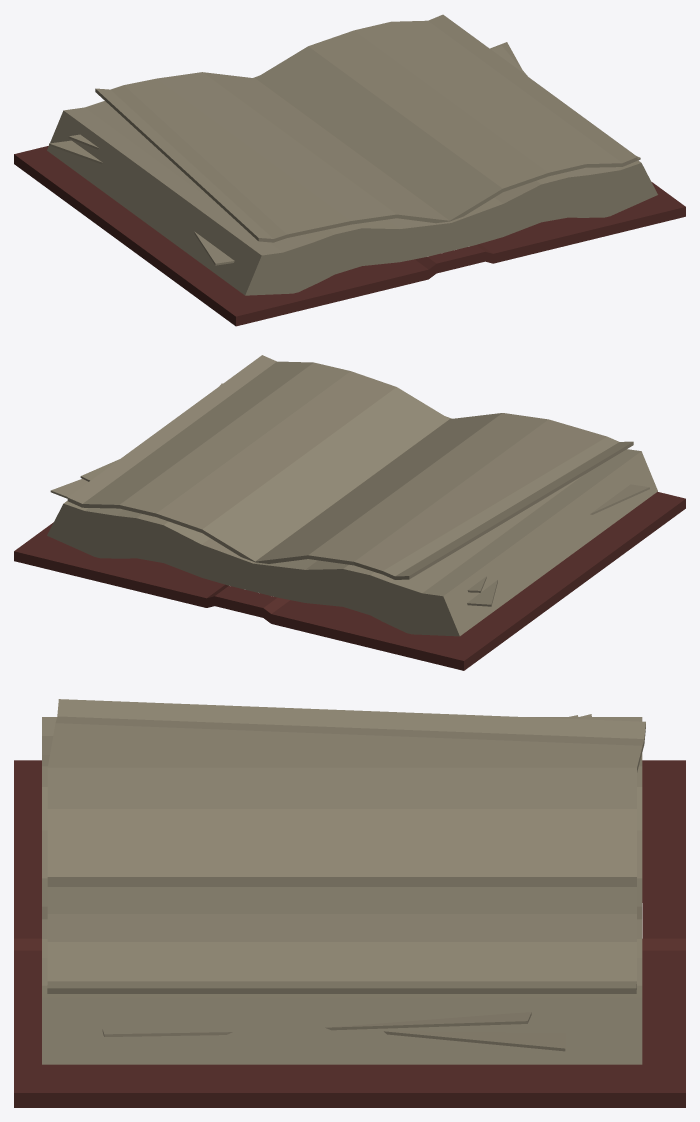
Rendered from book-open.glb.
3 renders of one model, top to bottom at view 1: azimuth 30°, elevation 25°; view 2: azimuth 150°, elevation 25°; view 3: azimuth 270°, elevation 25°, orthographic. The views are drawn at different scales.
Visible parts, largest first — view 1: Book1_Open; view 2: Book1_Open; view 3: Book1_Open.
Part boxes in pixels (x1,y1,x2,y2): Book1_Open: (14, 14, 685, 326); Book1_Open: (14, 355, 685, 670); Book1_Open: (14, 699, 685, 1107).
Bounding box in the file's own units: 0.873 × 0.1263 × 0.7401.
